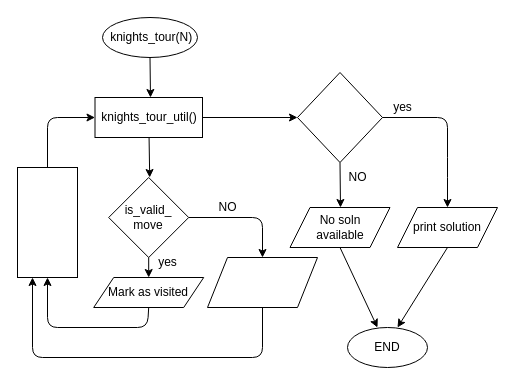
Image size: 515x385. Some labels were removed from this diagram. Each missing label, with the box of its shape:
Backtrack and unmark square: (206, 256, 318, 308)
if move_count == N * N: (296, 72, 382, 162)
Recursive call to explore next move: (16, 166, 78, 278)
